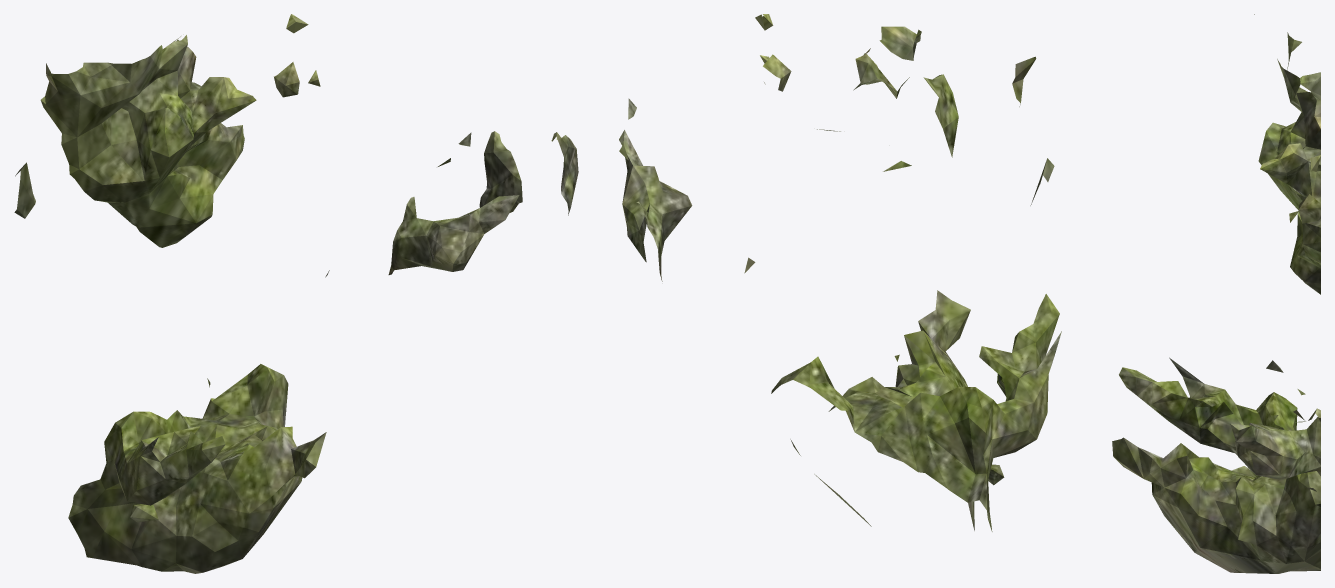
3 views of the same model, side by side, from view 1: azimuth 30°, elevation 25°; view 2: azimuth 150°, elevation 25°; view 3: azimuth 270°, elevation 25° (orthographic). The views are drawn at different scales.
Bounding box in the file's own units: 5.9 × 5.9 × 2.3.
2 materials, 2 textured.
